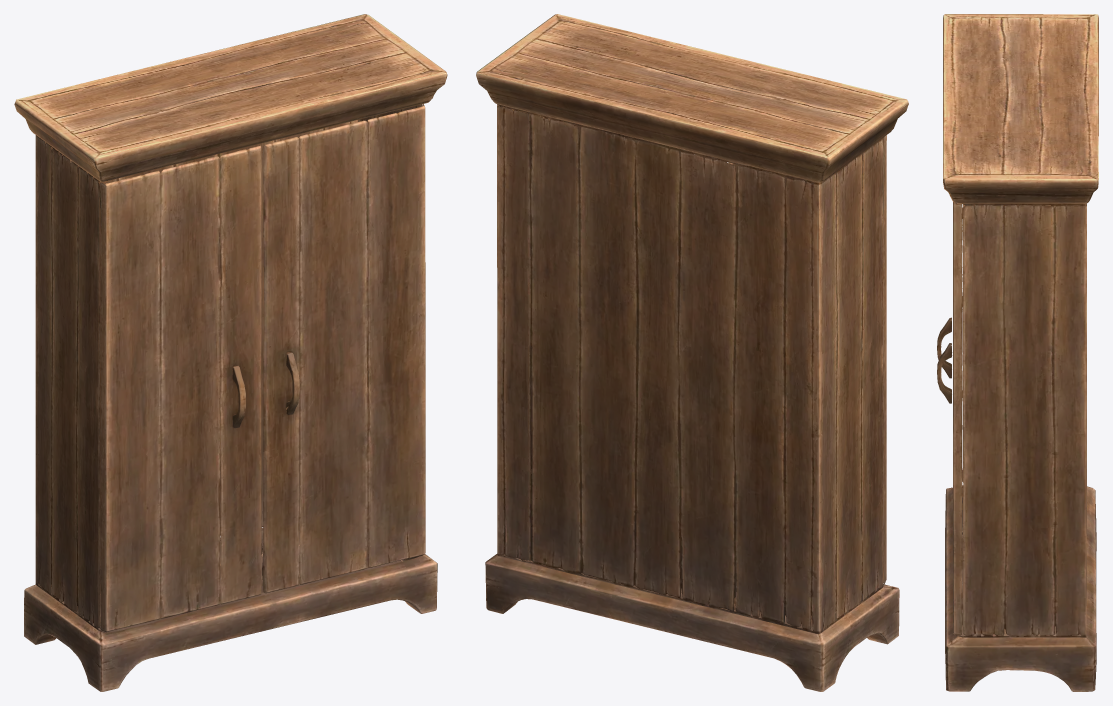
3 views of the same model, side by side, from view 1: azimuth 30°, elevation 25°; view 2: azimuth 150°, elevation 25°; view 3: azimuth 270°, elevation 25° (orthographic). The views are drawn at different scales.
Visible parts, largest first — view 1: SM_Wardrobe_01v1_LOD0; view 2: SM_Wardrobe_01v1_LOD0; view 3: SM_Wardrobe_01v1_LOD0.
Boxes of the visible parts, x1=… form: SM_Wardrobe_01v1_LOD0: x1=14, y1=14, x2=447, y2=691; SM_Wardrobe_01v1_LOD0: x1=476, y1=14, x2=908, y2=691; SM_Wardrobe_01v1_LOD0: x1=937, y1=14, x2=1098, y2=691.
Size of the model in its own units: 1.52 by 2.21 by 0.6265.
1 material, 1 textured.
